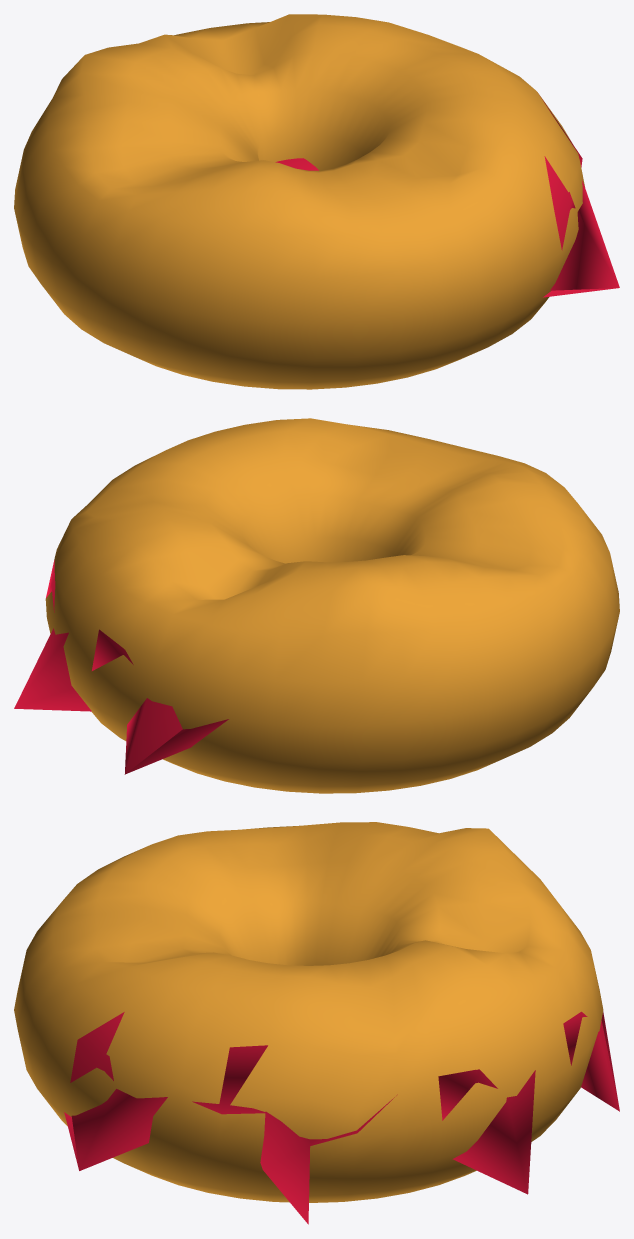
File: Donut.glb
3 views of the same model, one above another, from view 1: azimuth 30°, elevation 25°; view 2: azimuth 150°, elevation 25°; view 3: azimuth 270°, elevation 25° (orthographic). The views are drawn at different scales.
Visible parts, largest first — view 1: Donut, Donut.001; view 2: Donut, Donut.001; view 3: Donut, Donut.001.
Boxes of the visible parts, box(x1,y1,x2,y2) form: Donut: box(14, 14, 585, 389); Donut.001: box(275, 95, 619, 297); Donut: box(45, 418, 619, 793); Donut.001: box(14, 560, 228, 774); Donut: box(14, 822, 603, 1202); Donut.001: box(64, 1011, 619, 1224).
Size of the model in its own units: 0.1029 by 0.0421 by 0.1028.
